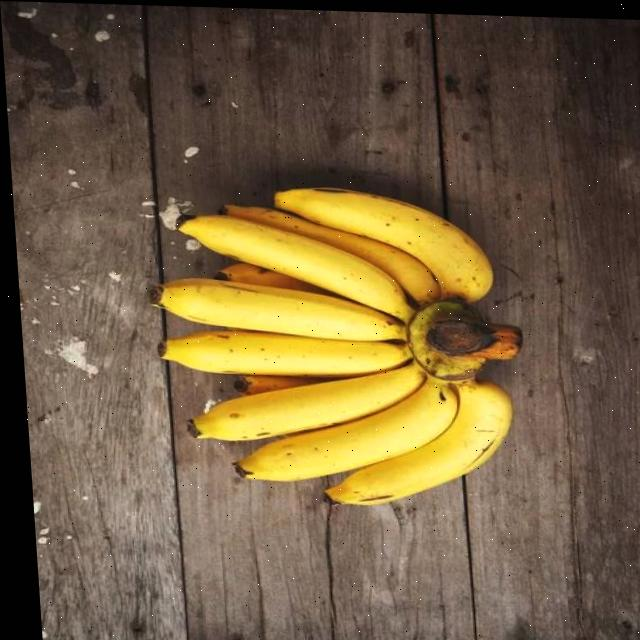banana: (137, 175, 542, 512)
